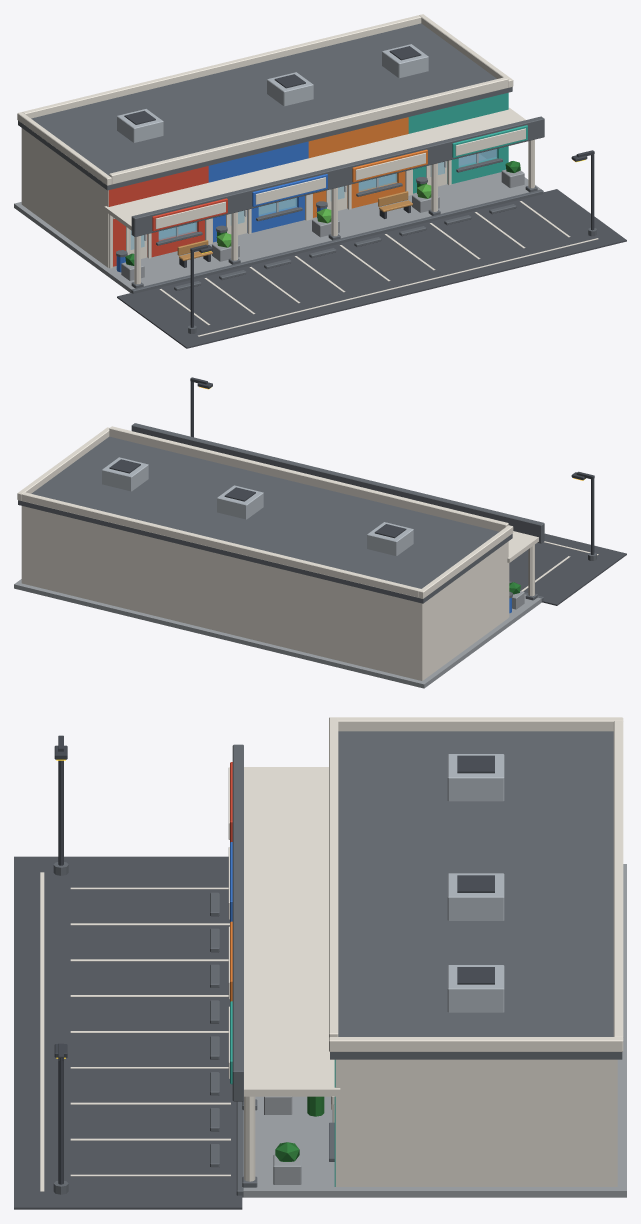
Rendered from town-strip-mall-plaza.glb.
3 renders of one model, top to bottom at view 1: azimuth 30°, elevation 25°; view 2: azimuth 150°, elevation 25°; view 3: azimuth 270°, elevation 25°, orthographic. The views are drawn at different scales.
Visible parts, largest first — view 1: Roof, Parking_Asphalt, Base_Slab, Wall_Side_L, Canopy, Parapet_Front, Canopy_Fascia, Parapet_B, Curb_Front, Parapet_L, Parapet_R, Roof_AC_2 (+21 smaller); view 2: Wall_Back, Roof, Wall_Side_L, Parapet_Front, Parking_Asphalt, Base_Slab, Canopy_Fascia, Parapet_B, Parapet_L, Parapet_R, Roof_AC_2, Roof_AC_3 (+2 smaller); view 3: Roof, Parking_Asphalt, Wall_Side_R, Canopy, Base_Slab, Parapet_R, Canopy_Fascia, Parapet_L, Parapet_B, Parapet_Front, Roof_AC_2, Roof_AC_1 (+9 smaller).
Boxes of the visible parts, left/top/right/bottom form: Roof: left=18, top=23, right=512, bottom=190; Parking_Asphalt: left=117, top=189, right=626, bottom=348; Base_Slab: left=14, top=154, right=540, bottom=292; Wall_Side_L: left=22, top=128, right=108, bottom=267; Canopy: left=104, top=107, right=525, bottom=230; Parapet_Front: left=109, top=77, right=508, bottom=184; Canopy_Fascia: left=131, top=116, right=544, bottom=236; Parapet_B: left=22, top=15, right=421, bottom=118; Curb_Front: left=131, top=189, right=543, bottom=293; Parapet_L: left=17, top=112, right=111, bottom=185; Parapet_R: left=419, top=14, right=513, bottom=87; Roof_AC_2: left=267, top=72, right=313, bottom=106; Wall_Back: left=21, top=506, right=422, bottom=680; Roof: left=18, top=436, right=512, bottom=603; Wall_Side_L: left=422, top=541, right=508, bottom=680; Parapet_Front: left=109, top=426, right=508, bottom=531; Parking_Asphalt: left=509, top=533, right=626, bottom=605; Base_Slab: left=14, top=579, right=541, bottom=688; Canopy_Fascia: left=131, top=423, right=544, bottom=543; Parapet_B: left=22, top=492, right=420, bottom=597; Parapet_L: left=418, top=525, right=513, bottom=598; Parapet_R: left=17, top=427, right=109, bottom=500; Roof_AC_2: left=217, top=485, right=263, bottom=519; Roof_AC_3: left=102, top=457, right=148, bottom=491; Roof: left=330, top=731, right=622, bottom=1059; Parking_Asphalt: left=14, top=856, right=242, bottom=1209; Wall_Side_R: left=335, top=1059, right=616, bottom=1186; Canopy: left=244, top=767, right=340, bottom=1096; Base_Slab: left=242, top=864, right=626, bottom=1197; Parapet_R: left=329, top=1037, right=623, bottom=1051; Canopy_Fascia: left=232, top=744, right=243, bottom=1101; Parapet_L: left=329, top=717, right=623, bottom=731; Parapet_B: left=613, top=721, right=623, bottom=1037; Parapet_Front: left=329, top=717, right=338, bottom=1037; Roof_AC_2: left=447, top=873, right=504, bottom=920; Roof_AC_1: left=447, top=754, right=504, bottom=801.
Bounding box in the file's own units: 88 × 20 × 65.
